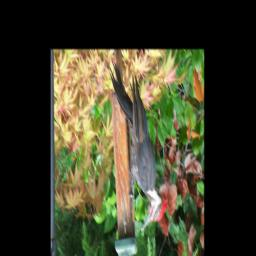Woodpecker: (109, 62, 168, 232)
